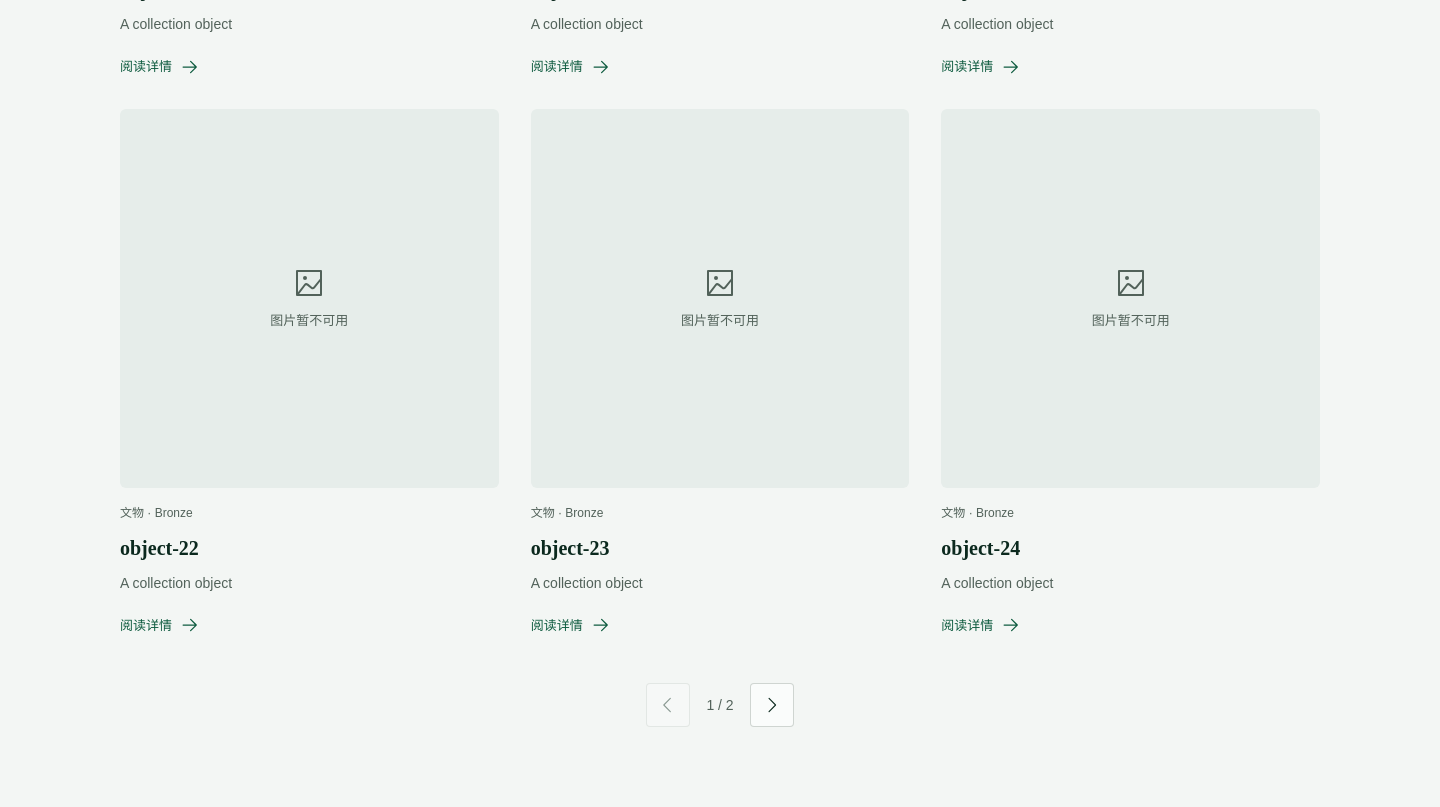
collection URL navigation › loads a shared search URL and makes the 25th result accessible
(page scrolled)
Step 1. Click the button named "下一页" → (772, 705), box [750,683,794,727]
(page scrolled)
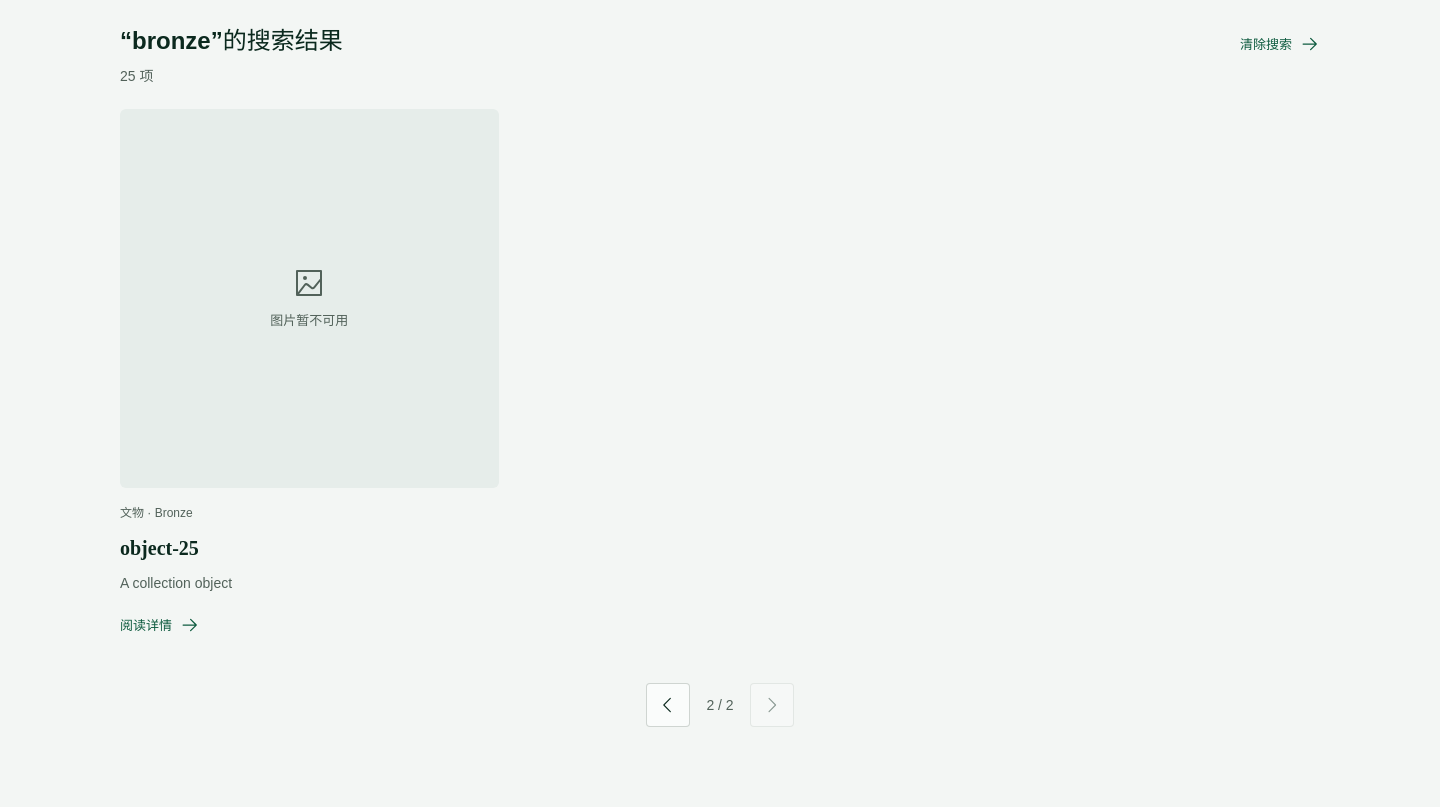
Result: the number of links with class "search-result-card" is 1 at [120,109,499,636]
Result: the text "object-25" is shown at [120,537,199,559]
